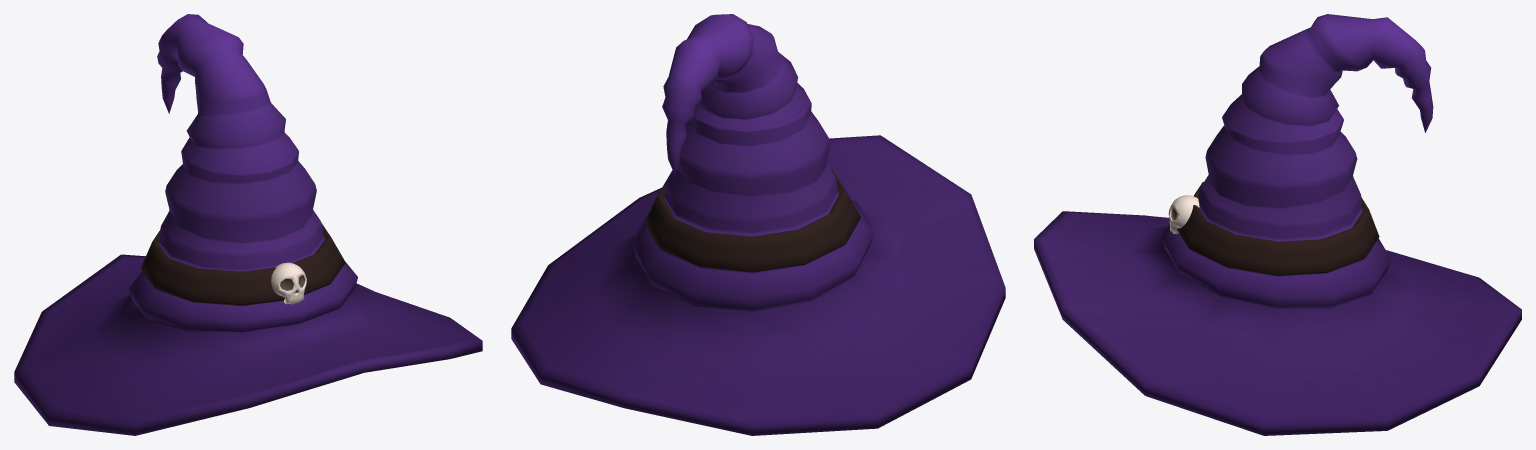
File: Hat_Witch.FBX
The picture shows the model from 3 angles, left to right: view 1: azimuth 30°, elevation 25°; view 2: azimuth 150°, elevation 25°; view 3: azimuth 270°, elevation 25°; orthographic projection. The views are drawn at different scales.
Visible parts, largest first — view 1: Hat_Witch; view 2: Hat_Witch; view 3: Hat_Witch.
Part boxes in pixels (x1,y1,x2,y2): Hat_Witch: [14, 14, 482, 435]; Hat_Witch: [511, 14, 1005, 435]; Hat_Witch: [1034, 14, 1521, 435].
Size of the model in its own units: 70.65 by 55.07 by 74.2.
Materials: 1 (1 with a texture image).
